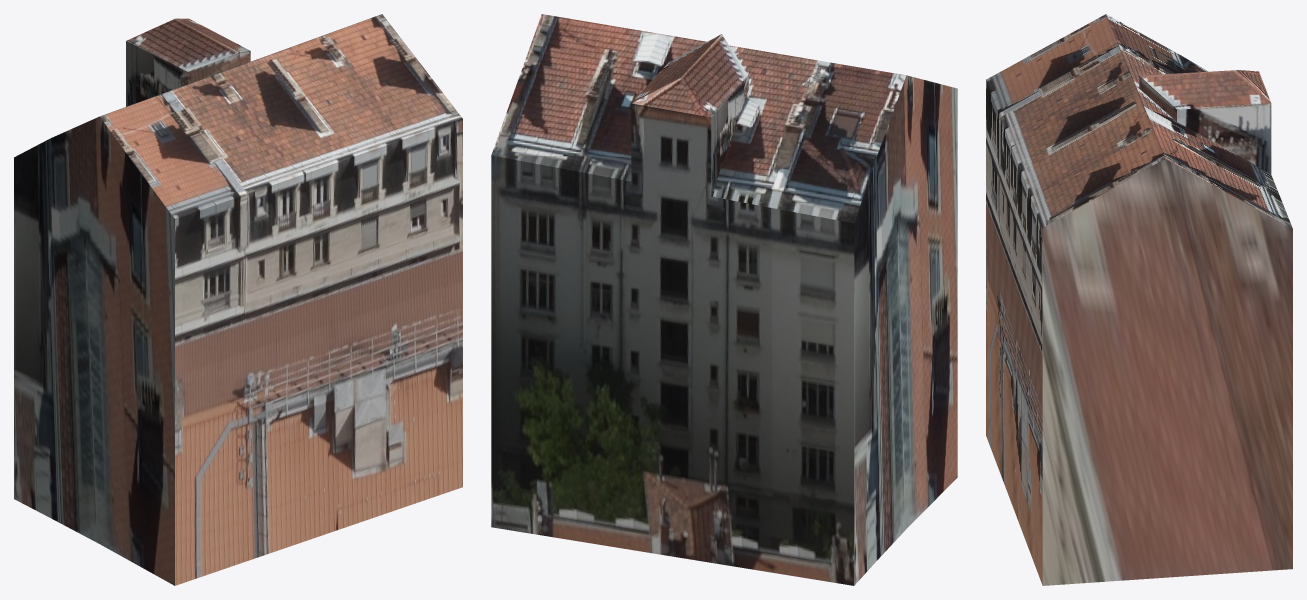
3 renders of one model, left to right at view 1: azimuth 30°, elevation 25°; view 2: azimuth 150°, elevation 25°; view 3: azimuth 270°, elevation 25°, orthographic. The views are drawn at different scales.
Parts seen in each view (by area): view 1: Z_UP; view 2: Z_UP; view 3: Z_UP.
Part boxes in pixels (x1,y1,x2,y2): Z_UP: (14,14,462,585); Z_UP: (491,14,957,585); Z_UP: (986,14,1292,585).
Bounding box in the file's own units: 22.95 × 27.71 × 18.01.
2 materials, 1 textured.
